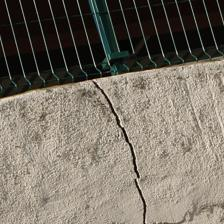Crack: (27, 19, 116, 131), (0, 0, 91, 41)
